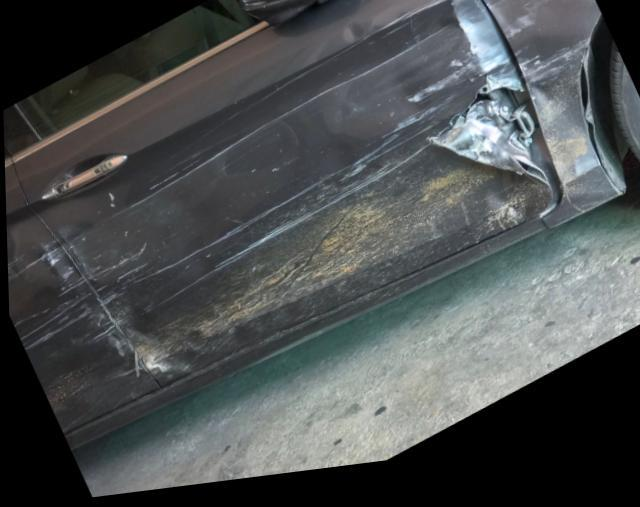dent: (106, 0, 507, 217), (6, 240, 136, 414), (55, 224, 199, 371), (509, 46, 599, 198), (474, 0, 601, 58)
scratch: (111, 111, 476, 312)
